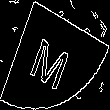M_NE: (31, 22, 79, 88)
